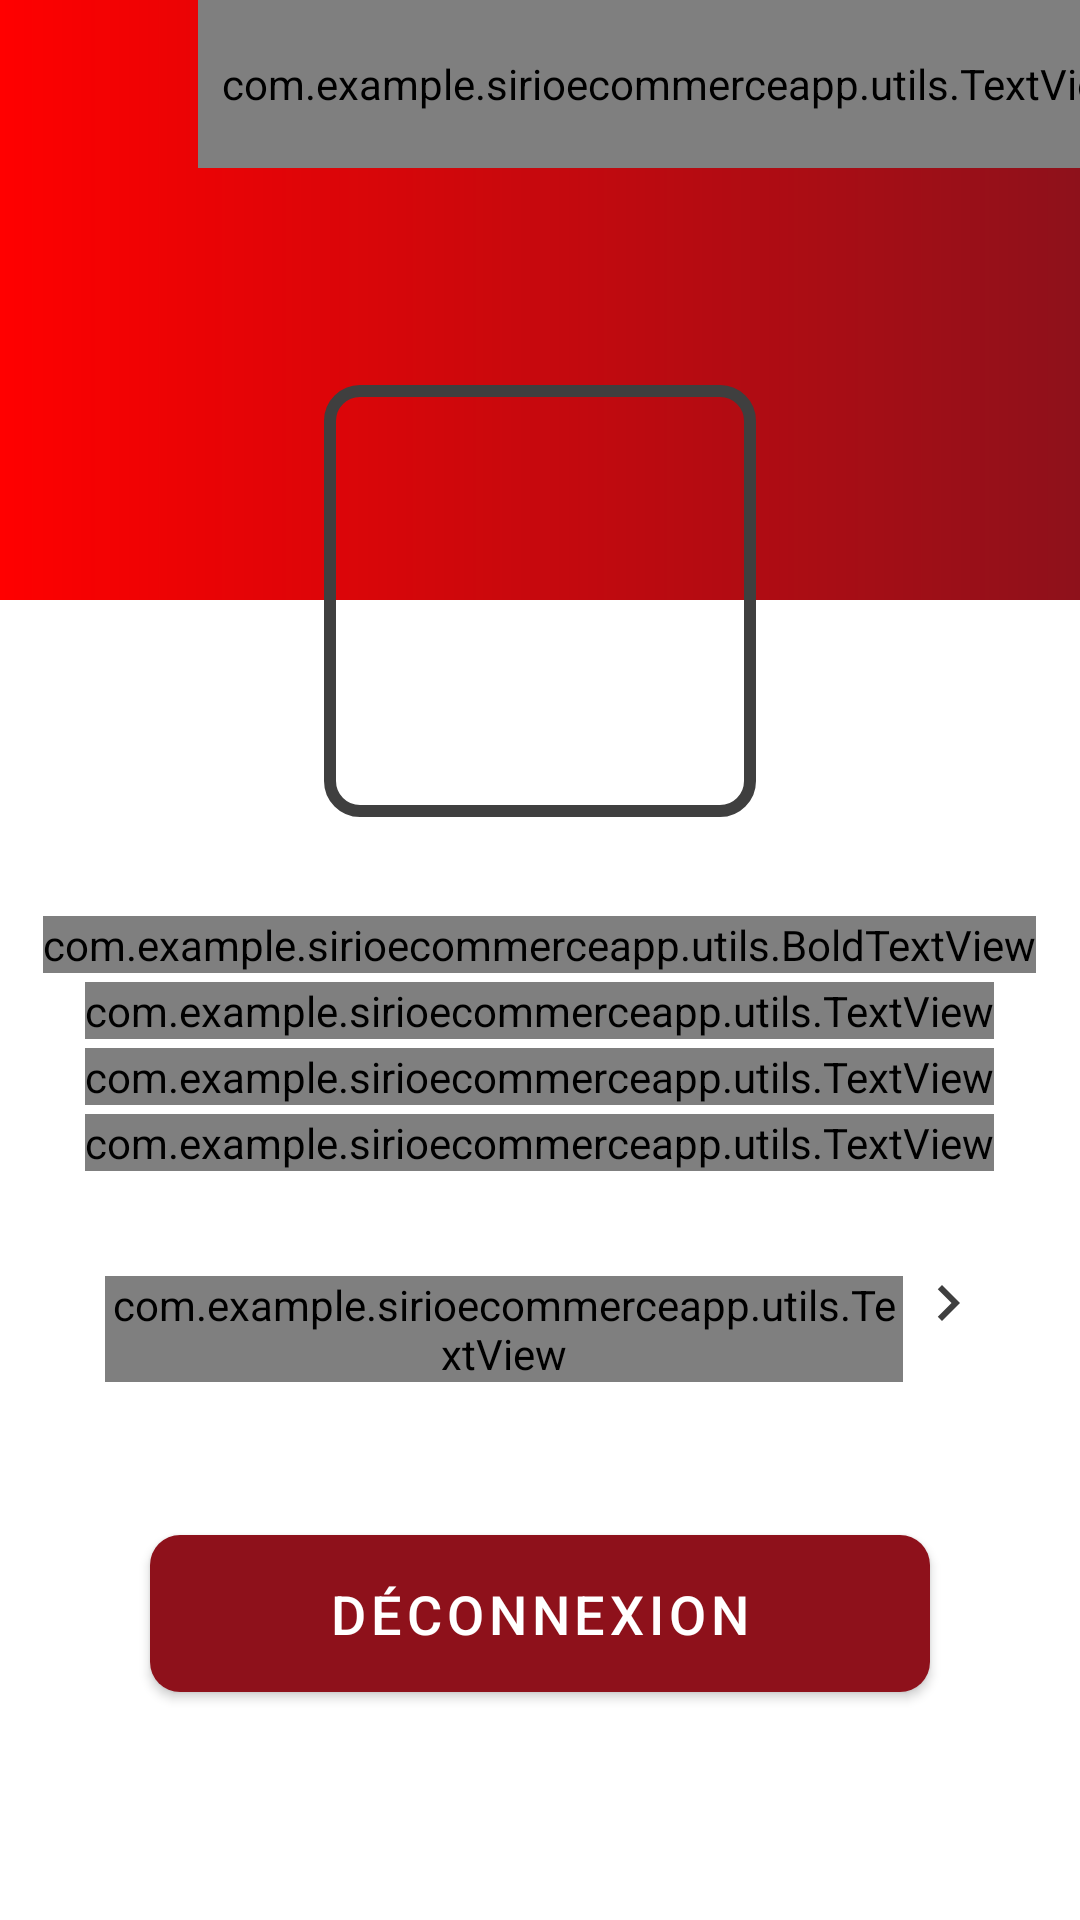

Where icons sit on this 1080 × 1920 app screen, as [x1,y1,x2,y2]:
chevron right: [938,1285,960,1321]
